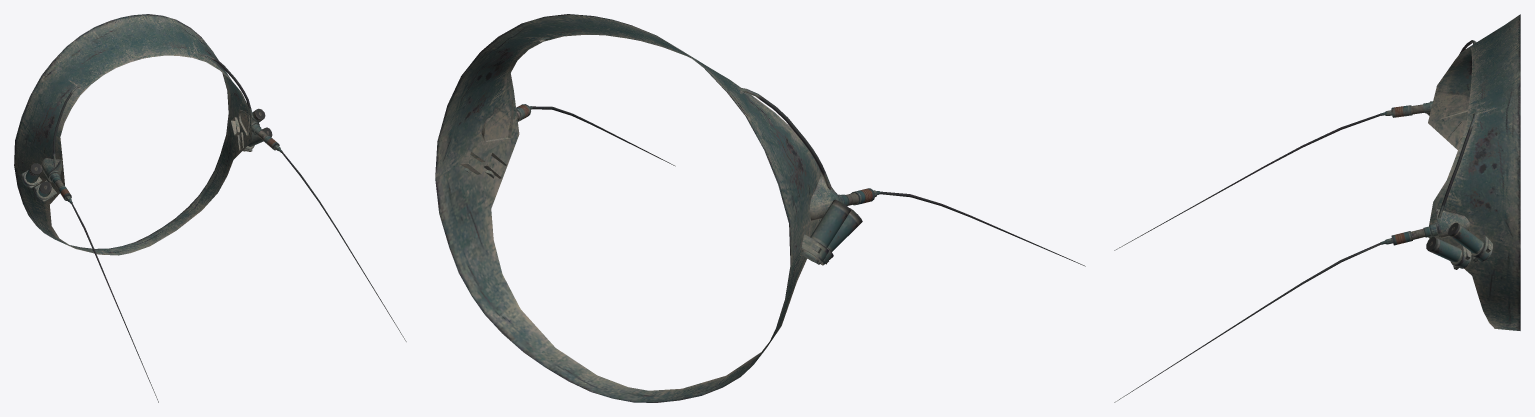
The model's file is Turret_01.glb.
3 renders of one model, left to right at view 1: azimuth 30°, elevation 25°; view 2: azimuth 150°, elevation 25°; view 3: azimuth 270°, elevation 25°, orthographic. The views are drawn at different scales.
Visible parts, largest first — view 1: set_0_group_0; view 2: set_0_group_0; view 3: set_0_group_0.
Boxes of the visible parts, <box> form: set_0_group_0: <box>14,14,406,402</box>; set_0_group_0: <box>435,14,1085,402</box>; set_0_group_0: <box>1114,14,1520,402</box>.
Size of the model in its own units: 2.05 by 1.88 by 2.32.
Materials: 1 (1 with a texture image).
